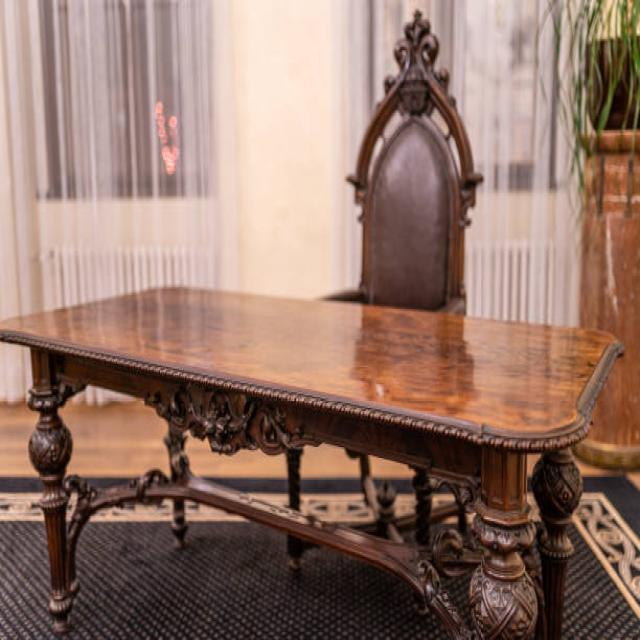table: (0, 282, 624, 638)
